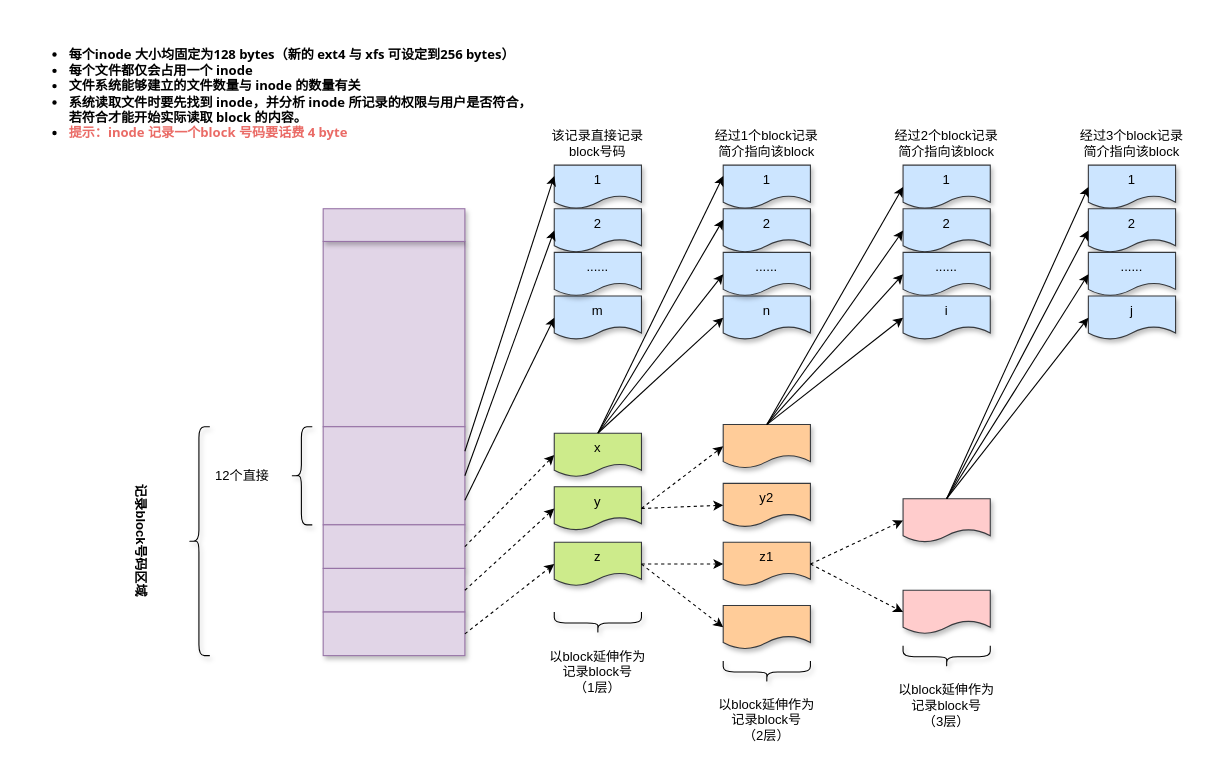
The diagram is 1211 pixels wide and 773 high, and some of its shapes have lost their labels. Each missing label, with the centre of its shape:
INODE: the point at 394,226
y1: the point at 767,447
z11: the point at 947,521
z12: the point at 947,613
z2: the point at 767,628
三间接: the point at 394,635
双间接: the point at 394,591
文件权限/属性记录区域: the point at 394,335
直接 ...... 直接: the point at 394,476
间接: the point at 394,547
